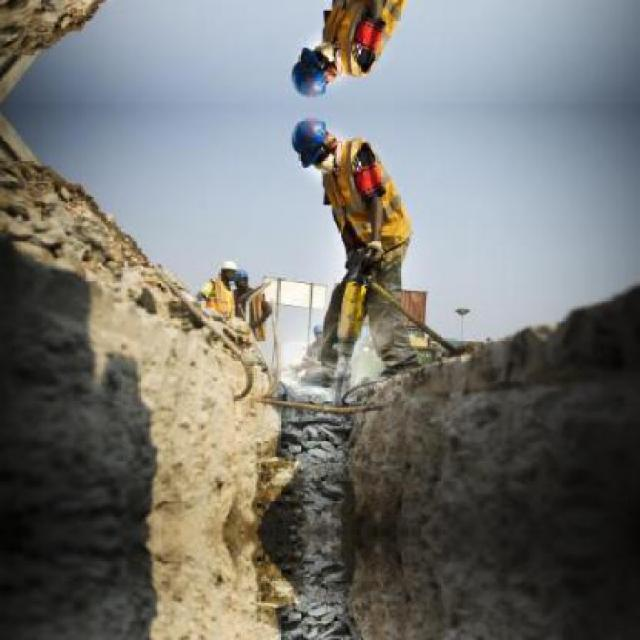Reflective-Jacket: (313, 134, 402, 235), (195, 277, 240, 325)
Safety-Helmet: (280, 110, 340, 162), (292, 48, 332, 101), (211, 252, 243, 280), (231, 264, 254, 288)
